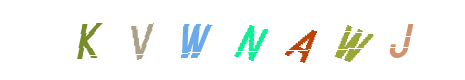A: (211, 0, 291, 80)
J: (263, 0, 343, 80)
K: (155, 0, 235, 80)
N: (208, 0, 288, 80)
V: (191, 0, 271, 80)
W: (199, 0, 279, 80), (217, 0, 297, 80)
